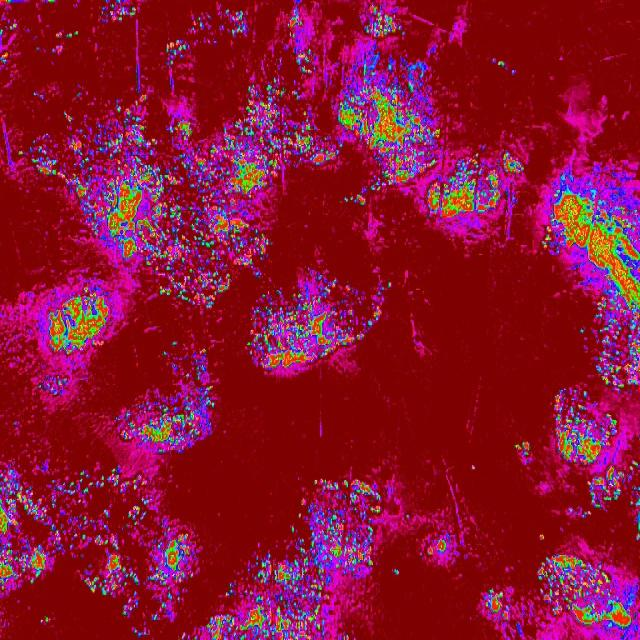fire: (83, 94, 271, 306), (0, 470, 199, 600), (285, 477, 386, 640), (337, 50, 445, 186), (250, 283, 388, 377), (556, 166, 640, 310), (540, 385, 633, 510), (533, 552, 640, 640), (422, 156, 526, 228), (121, 382, 212, 453), (40, 278, 116, 356), (272, 92, 336, 172), (222, 560, 284, 640), (591, 310, 640, 388), (186, 614, 222, 640)
